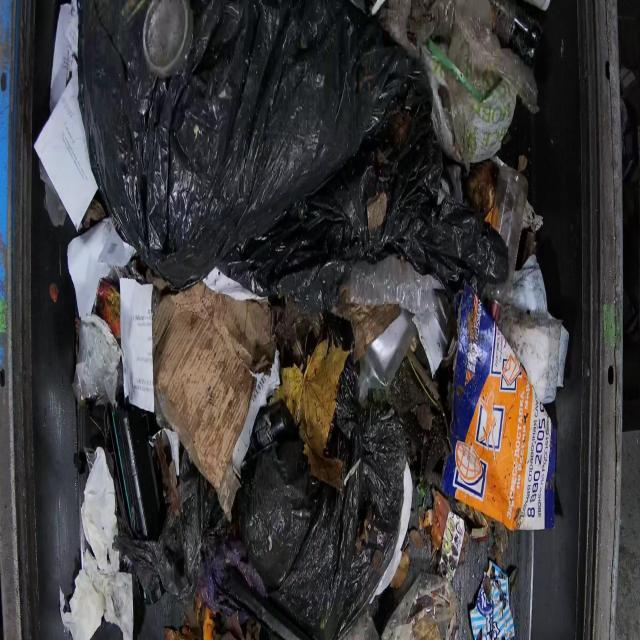other-trash: (40, 0, 565, 638)
